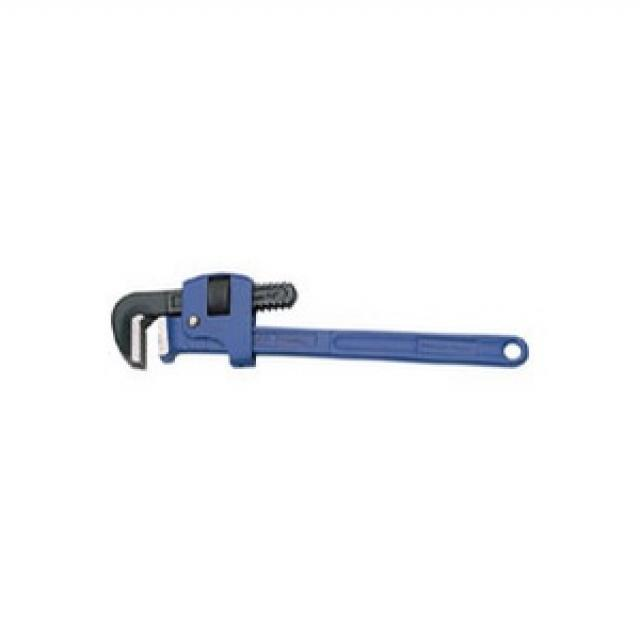wrench: (105, 267, 537, 380)
